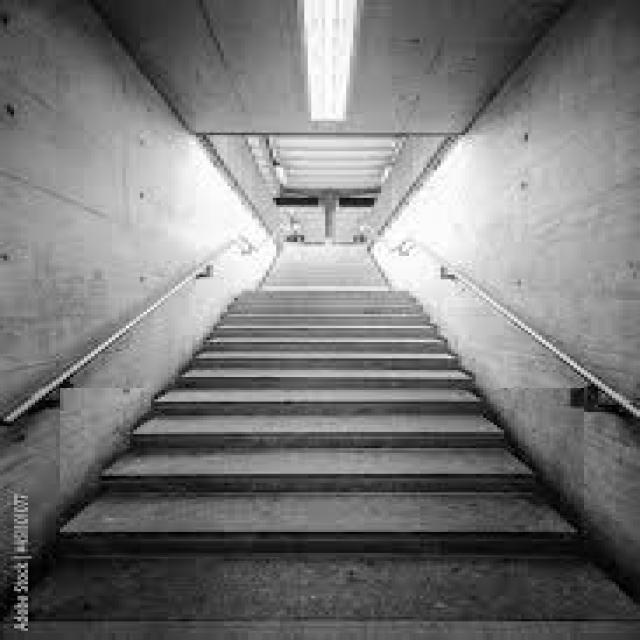stair: (60, 389, 584, 557)
